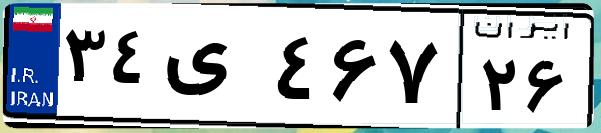2: (475, 38, 525, 113)
3: (57, 26, 110, 100)
4: (270, 28, 330, 110), (110, 28, 158, 98)
6: (330, 28, 385, 110), (525, 38, 570, 115)
7: (385, 28, 445, 110)
ی: (158, 20, 270, 120)
